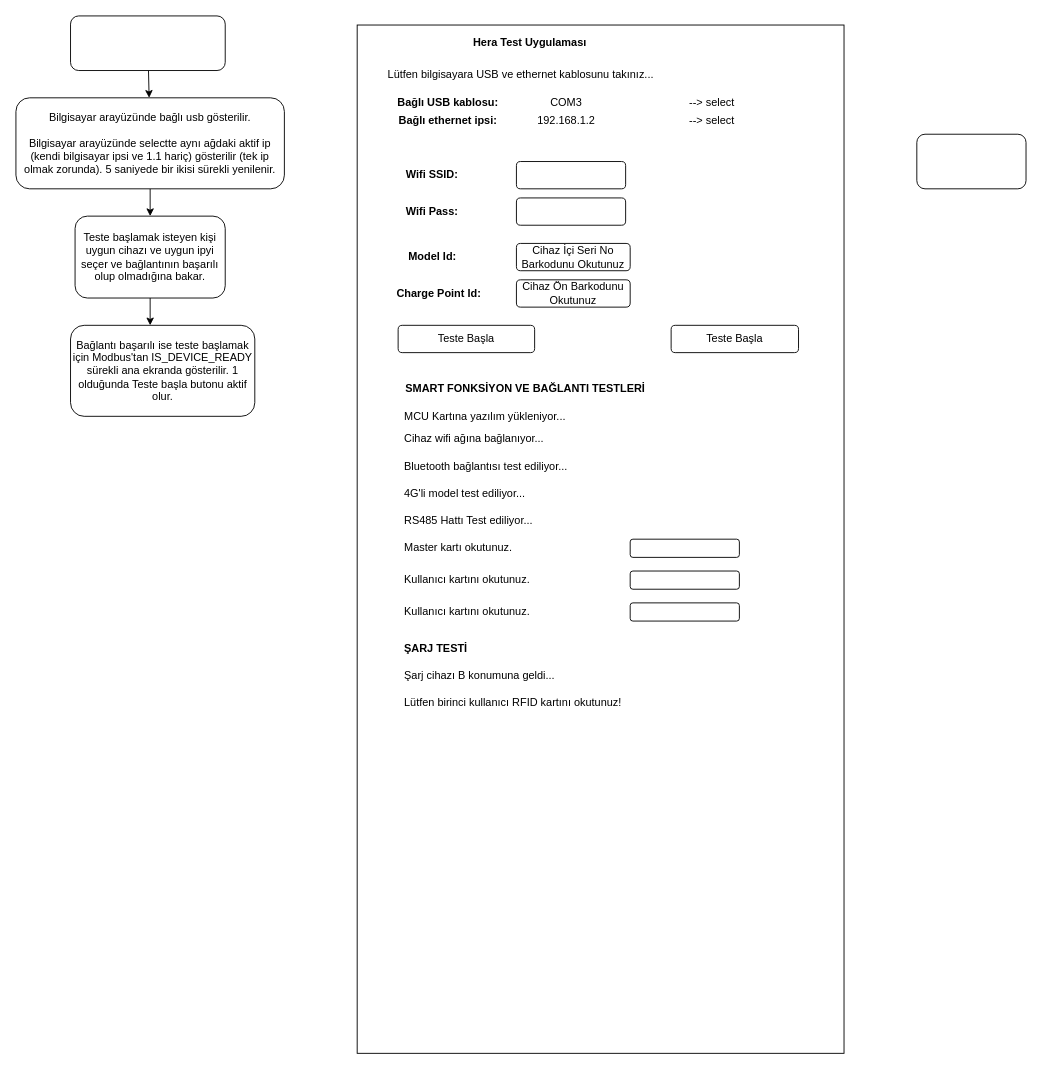
This 1042x1069 diagram has some shape labels left out. The centre of each missing label's shape, as x and y in pixels:
Bilgisayara ethernet kablosu ve modbus için usb kablosu takılır.: point 147,43
Cihazda usb, eth varsa ve cihaz teste hazırsa teste başla butonu aktif olur.: point 971,161
